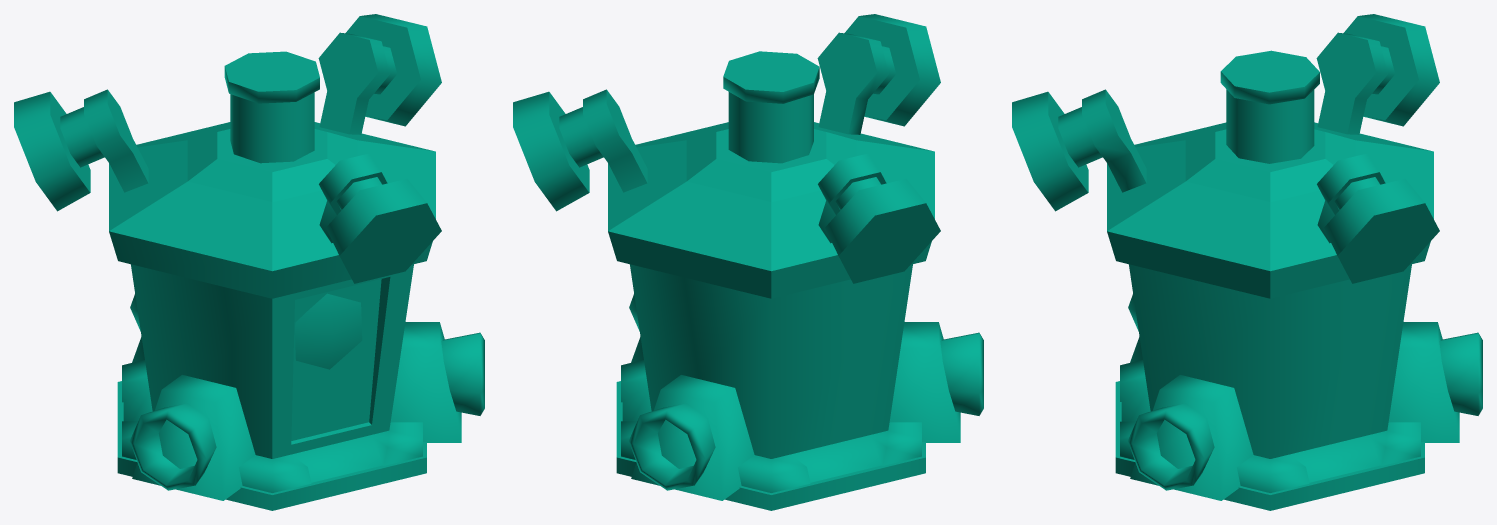
Rendered from (TO TEX) Security Center -- Low (MAP).FBX.
The picture shows the model from 3 angles, left to right: view 1: azimuth 30°, elevation 25°; view 2: azimuth 150°, elevation 25°; view 3: azimuth 270°, elevation 25°; orthographic projection.
Parts seen in each view (by area): view 1: Building, Vigilance Camera C, Vigilance Camera A, Vigilance Camera B, Meter, Construction Base; view 2: Building, Vigilance Camera B, Vigilance Camera C, Vigilance Camera A, Meter, Construction Base; view 3: Building, Vigilance Camera A, Vigilance Camera B, Meter, Vigilance Camera C, Construction Base.
Part boxes in pixels (x1=…): Building: x1=60, y1=32, x2=484, y2=500; Vigilance Camera C: x1=326, y1=179, x2=441, y2=283; Vigilance Camera A: x1=345, y1=14, x2=441, y2=126; Vigilance Camera B: x1=14, y1=91, x2=90, y2=211; Meter: x1=230, y1=92, x2=314, y2=163; Construction Base: x1=117, y1=381, x2=426, y2=510; Building: x1=559, y1=32, x2=983, y2=500; Vigilance Camera B: x1=825, y1=179, x2=940, y2=283; Vigilance Camera C: x1=844, y1=14, x2=940, y2=126; Vigilance Camera A: x1=513, y1=91, x2=589, y2=211; Meter: x1=728, y1=92, x2=813, y2=163; Construction Base: x1=616, y1=381, x2=925, y2=510; Building: x1=1058, y1=32, x2=1482, y2=500; Vigilance Camera A: x1=1324, y1=179, x2=1439, y2=283; Vigilance Camera B: x1=1343, y1=14, x2=1439, y2=126; Meter: x1=1226, y1=89, x2=1314, y2=163; Vigilance Camera C: x1=1012, y1=91, x2=1088, y2=211; Construction Base: x1=1115, y1=381, x2=1424, y2=510.
Bounding box in the file's own units: 86.25 × 72.57 × 85.12.
